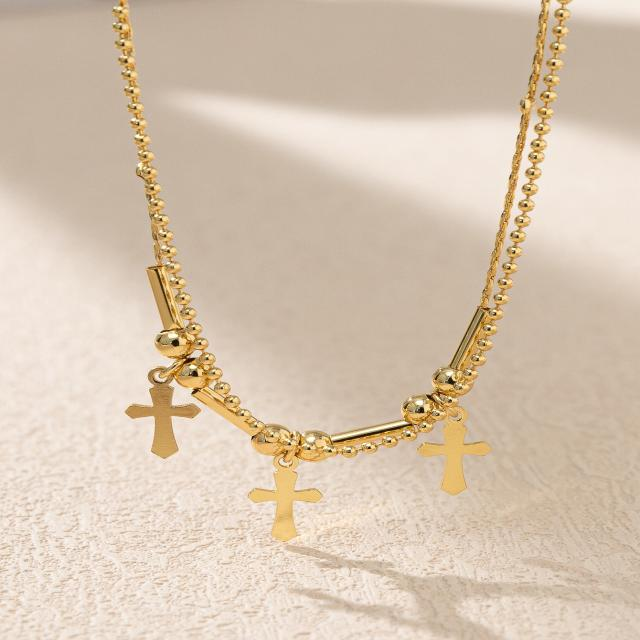bracelet: (73, 0, 634, 612)
